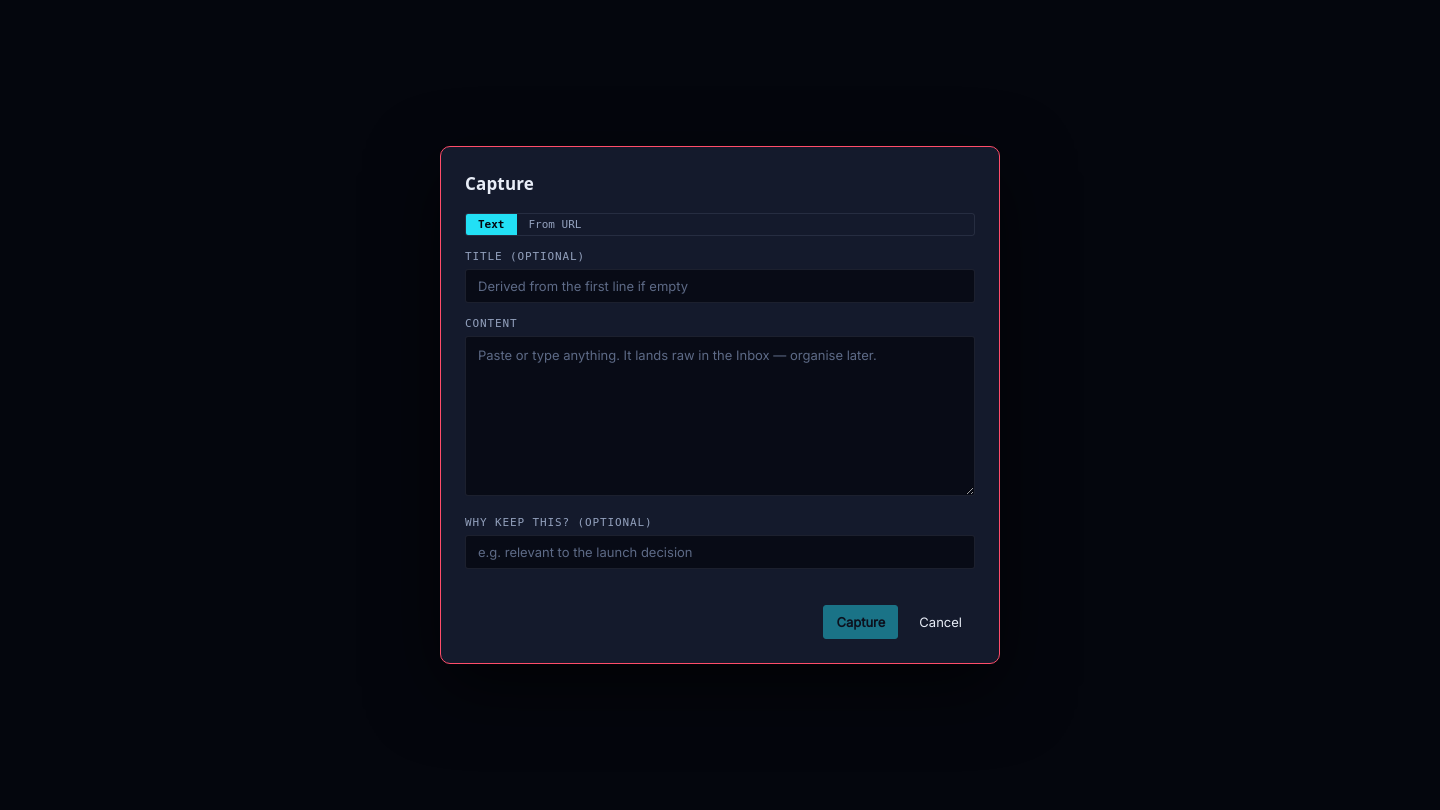
CaptureDialog › shows the backend's refusal instead of pretending it worked
Click the button "From URL": click(555, 224) [516,214,594,235]
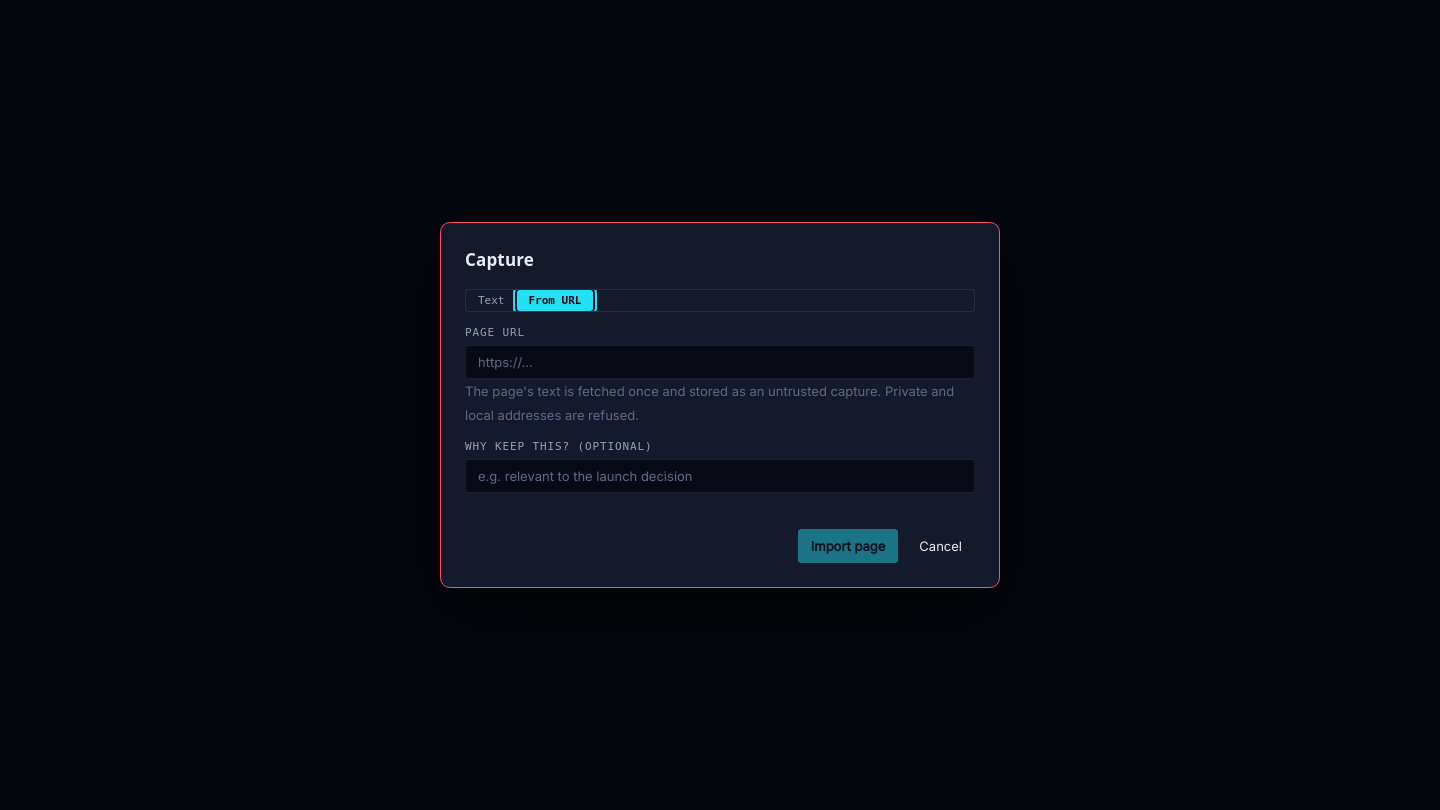
In the field labelled "Page URL": (720, 362) [465,345,975,379], type "http://127.0.0.1/admin"
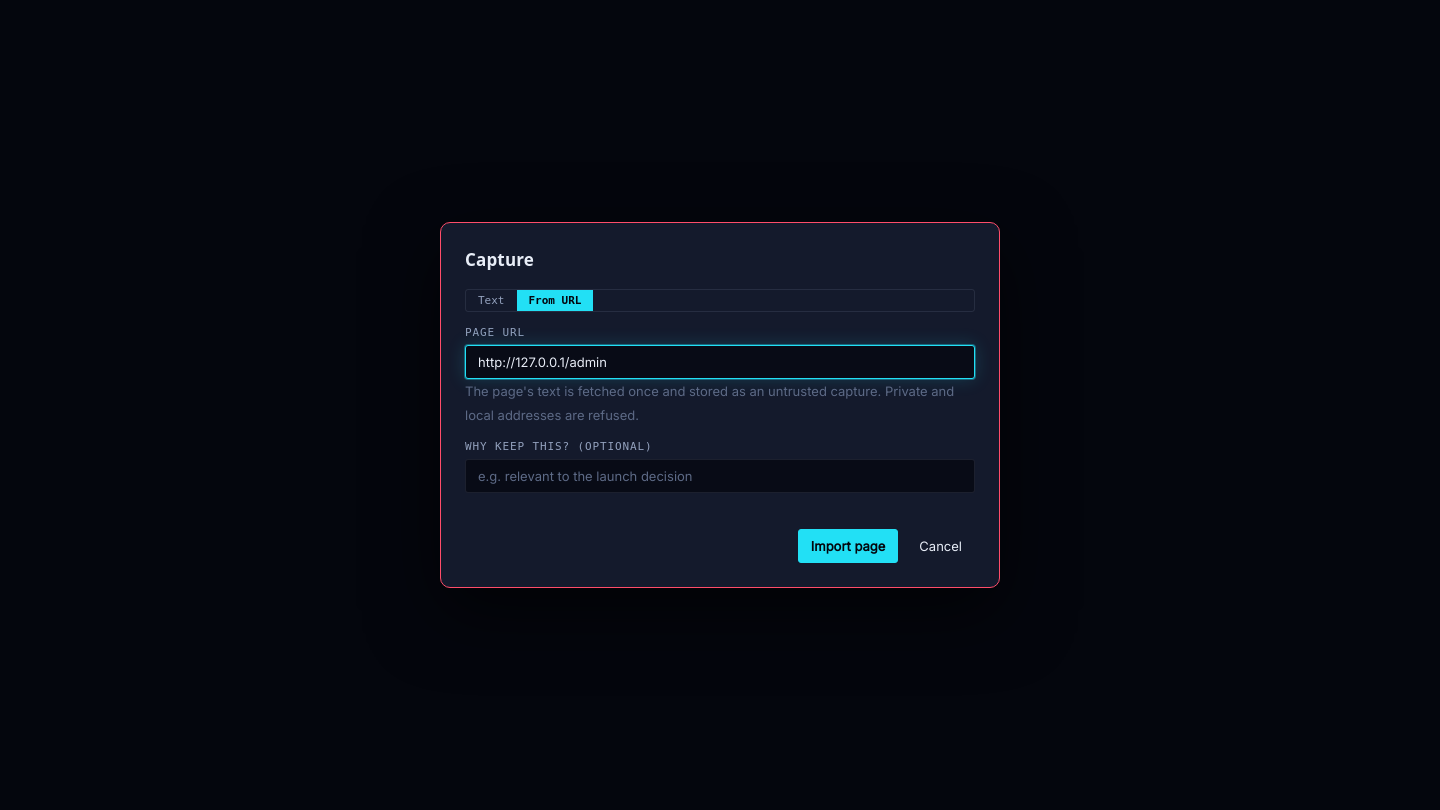
Click the button "Import page": click(848, 546) [798,529,898,563]
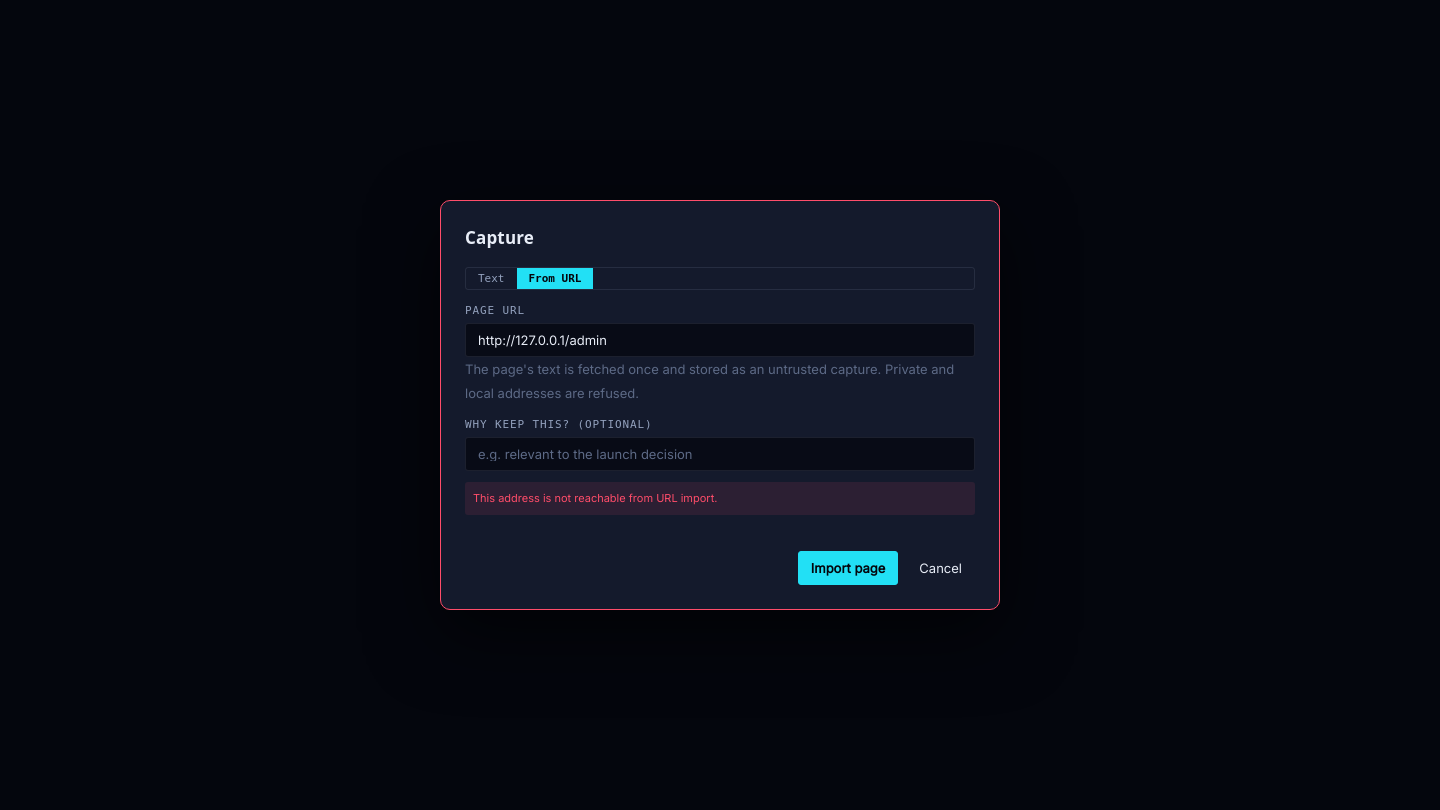
Result: the message shows "not reachable from URL import" at [473,491,717,505]
